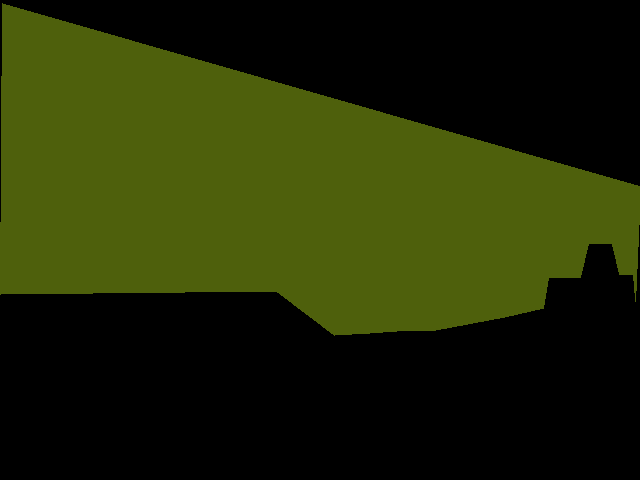Train: (0, 3, 640, 336)
